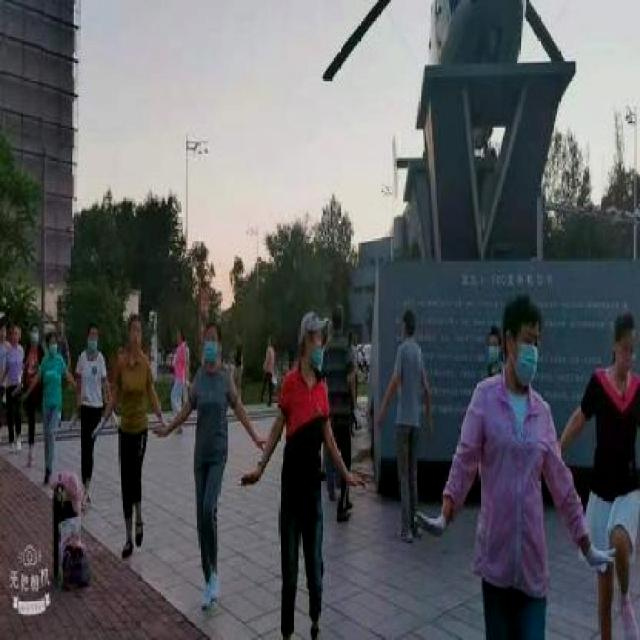face_mask: (514, 323, 541, 391), (197, 331, 226, 363), (308, 328, 328, 370), (48, 337, 63, 357), (88, 328, 100, 352)
face_nomask: (614, 323, 635, 369)
hand_glove: (586, 538, 619, 570), (410, 508, 448, 535), (90, 414, 104, 438), (66, 409, 77, 428)
hand_noglove: (237, 466, 258, 489), (149, 420, 168, 440), (348, 471, 366, 491), (374, 403, 383, 422), (256, 434, 266, 451), (425, 412, 432, 432), (20, 389, 28, 400), (11, 386, 20, 394)
head_nohelmet: (503, 294, 546, 335), (292, 309, 336, 342), (612, 311, 638, 337), (402, 310, 423, 342), (202, 318, 224, 337), (126, 312, 146, 331)
person: (448, 300, 572, 640), (263, 312, 359, 640), (555, 314, 640, 640), (369, 297, 445, 558), (180, 317, 245, 609), (104, 314, 174, 555), (28, 323, 80, 469)
